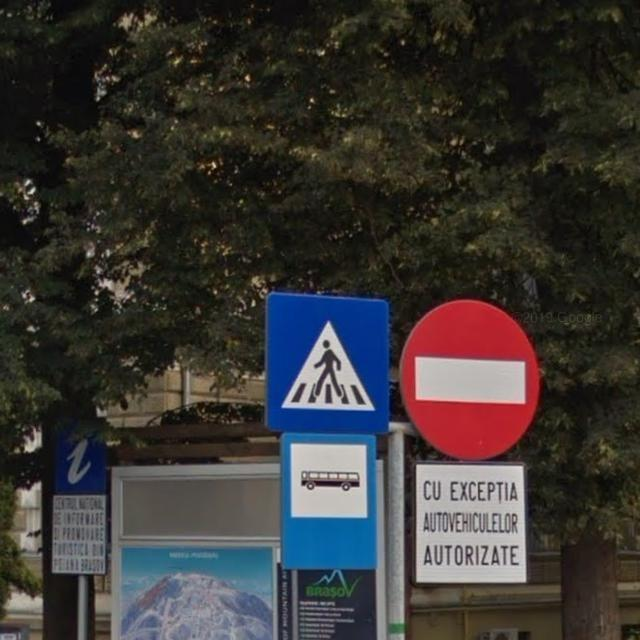info_crosswalk: (263, 293, 391, 435)
